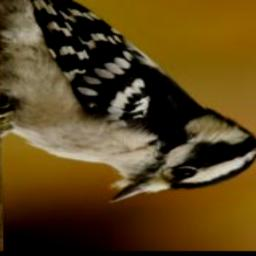Woodpecker: (0, 0, 256, 205)
